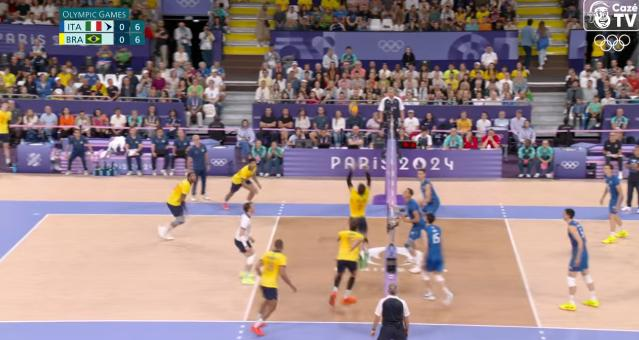Levantador: (350, 165, 370, 234), (418, 168, 438, 214)
Libero: (234, 200, 256, 282)
bola: (349, 104, 359, 116)
